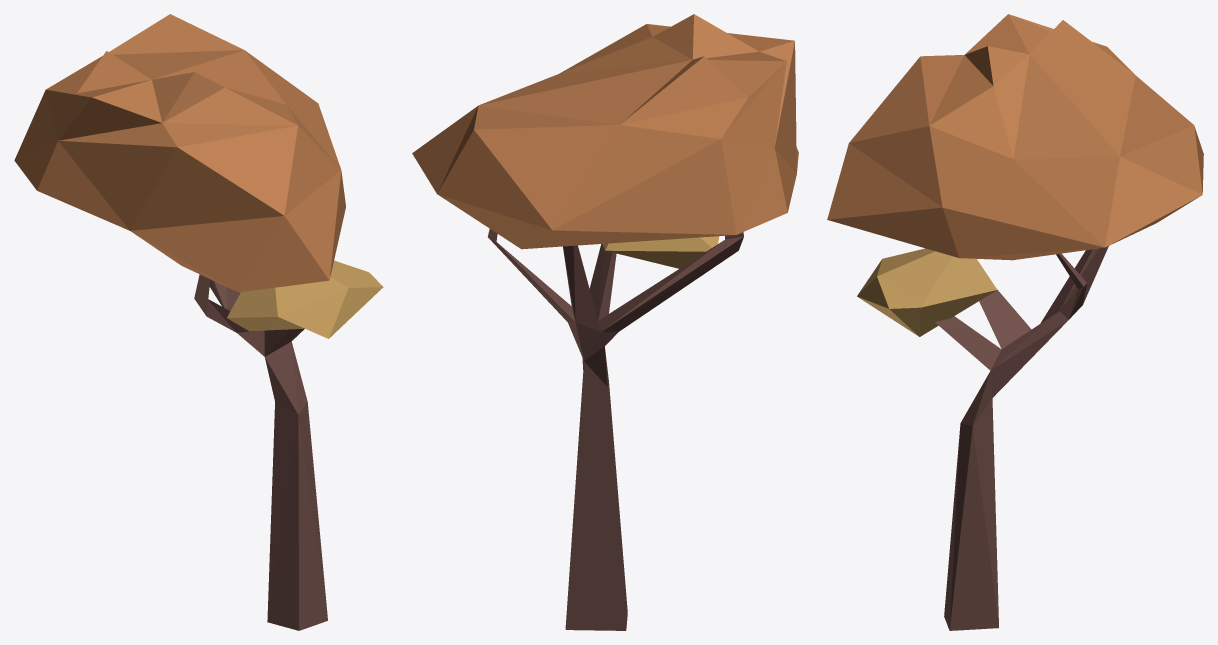
The model's file is CommonTree_Autumn_4.lod3.glb.
3 renders of one model, left to right at view 1: azimuth 30°, elevation 25°; view 2: azimuth 150°, elevation 25°; view 3: azimuth 270°, elevation 25°, orthographic. The views are drawn at different scales.
Visible parts, largest first — view 1: CommonTree_Autumn_4; view 2: CommonTree_Autumn_4; view 3: CommonTree_Autumn_4.
Boxes of the visible parts, x1,y1,x2,y2 form: CommonTree_Autumn_4: (14, 14, 383, 630); CommonTree_Autumn_4: (412, 14, 798, 630); CommonTree_Autumn_4: (827, 14, 1203, 630).
Size of the model in its own units: 1.58 by 2.79 by 1.77.
